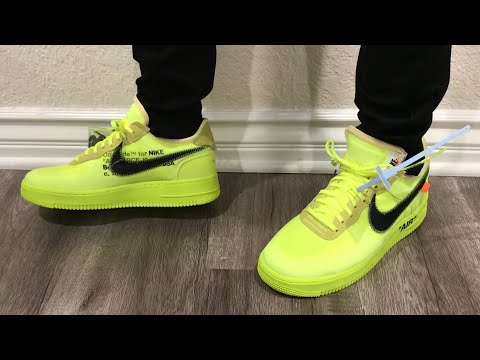Air Force One Volt: (248, 124, 437, 304), (6, 90, 240, 217)
